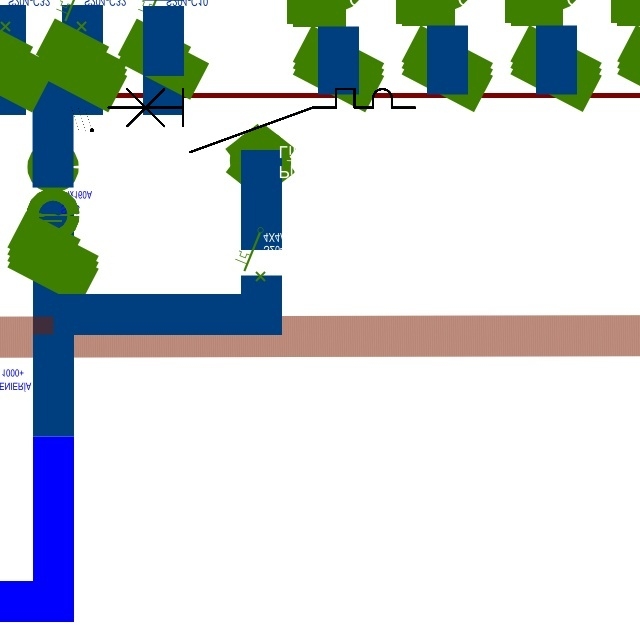interruptor_termomagnetico: (100, 81, 423, 160)
